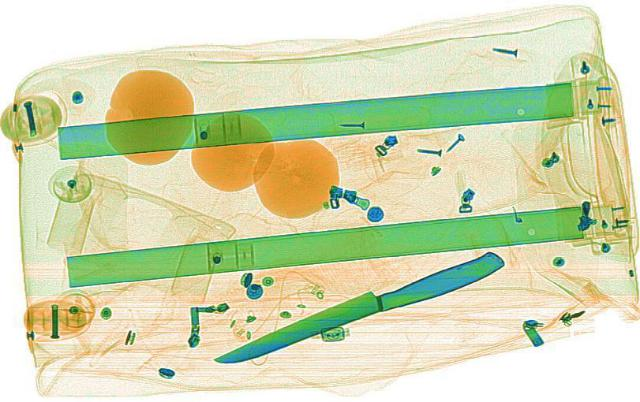Knife: (200, 245, 512, 370)
